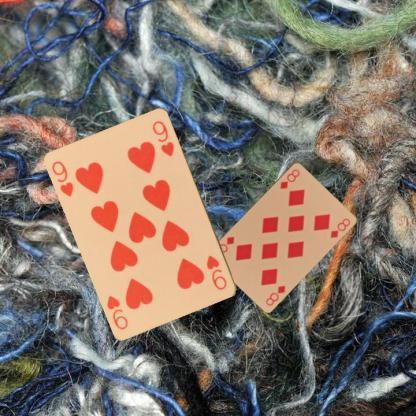8d: (277, 166, 301, 190), (264, 282, 286, 307)
9h: (49, 158, 75, 199), (204, 252, 228, 292)
